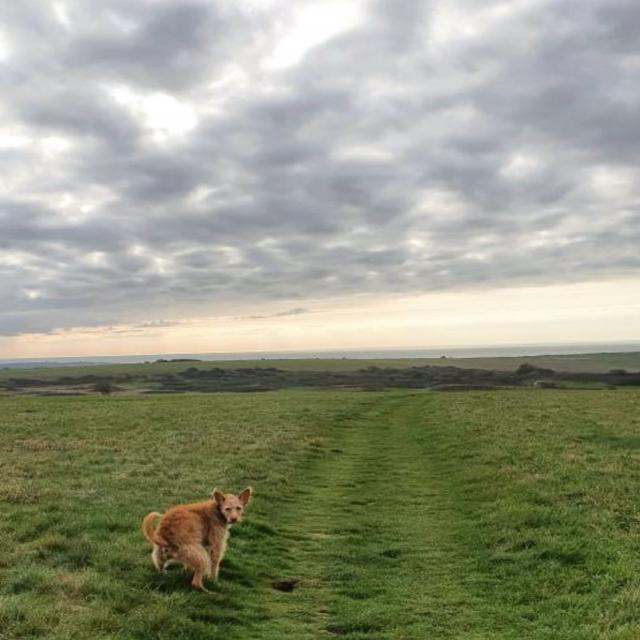squatting: (138, 482, 266, 596)
